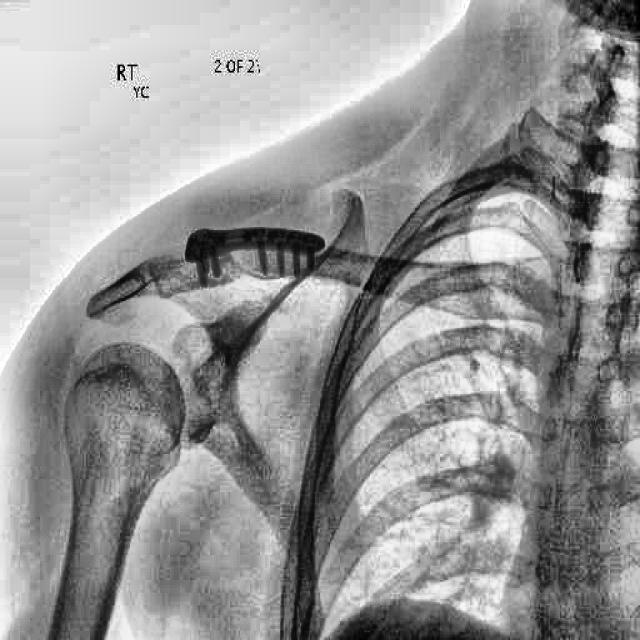shoulder fracture: (219, 249, 265, 303)
